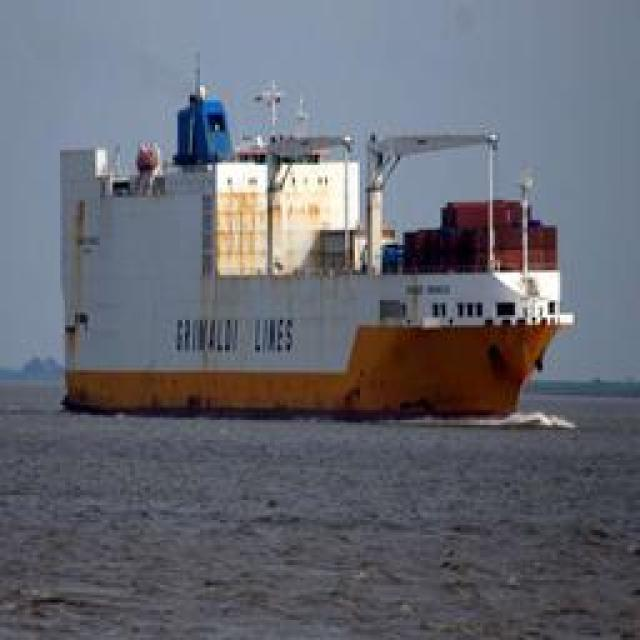CIV_Ship: (58, 71, 572, 414)
